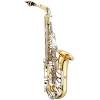Saxophone: (19, 1, 98, 100)
